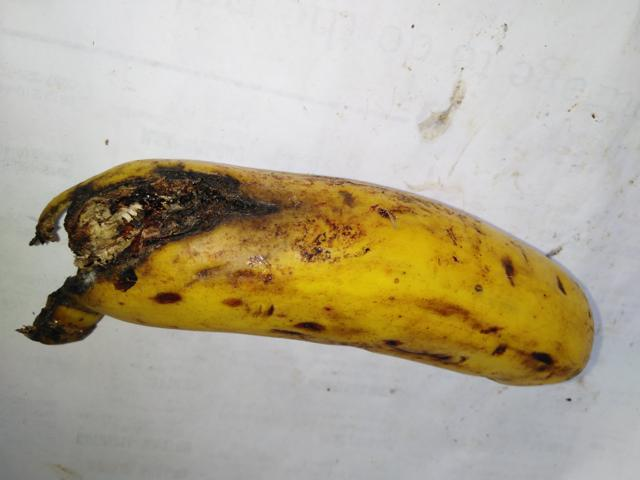ripe: (249, 138, 596, 407)
rotten: (38, 134, 276, 326)
